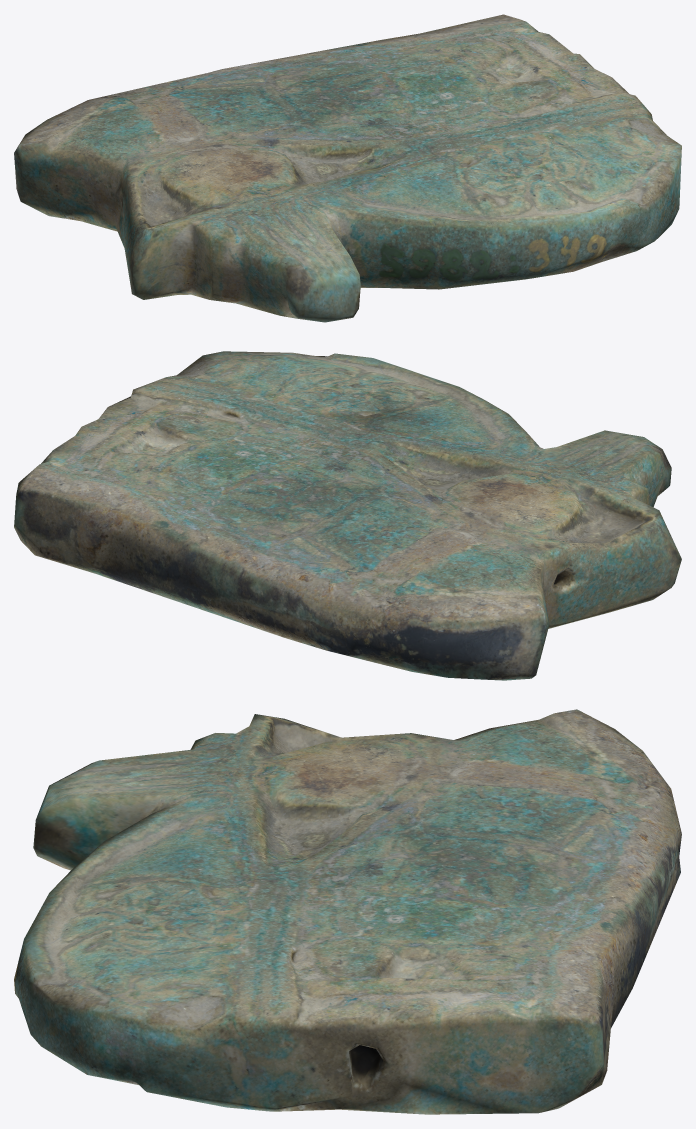
The model's file is Fajanssiriipus_Faience_Pendant.fbx.
3 views of the same model, one above another, from view 1: azimuth 30°, elevation 25°; view 2: azimuth 150°, elevation 25°; view 3: azimuth 270°, elevation 25° (orthographic). The views are drawn at different scales.
Visible parts, largest first — view 1: Fajanssiriipus_Faience_Pendant_LOD0; view 2: Fajanssiriipus_Faience_Pendant_LOD0; view 3: Fajanssiriipus_Faience_Pendant_LOD0.
Part boxes in pixels (x1,y1,x2,y2): Fajanssiriipus_Faience_Pendant_LOD0: (14,14,681,322); Fajanssiriipus_Faience_Pendant_LOD0: (14,351,681,680); Fajanssiriipus_Faience_Pendant_LOD0: (14,709,681,1114).
Size of what is drawn, in the model's own units: 16.02 by 2.56 by 13.8.
1 material, 1 textured.
